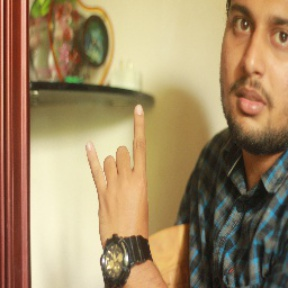V: (80, 101, 159, 239)
